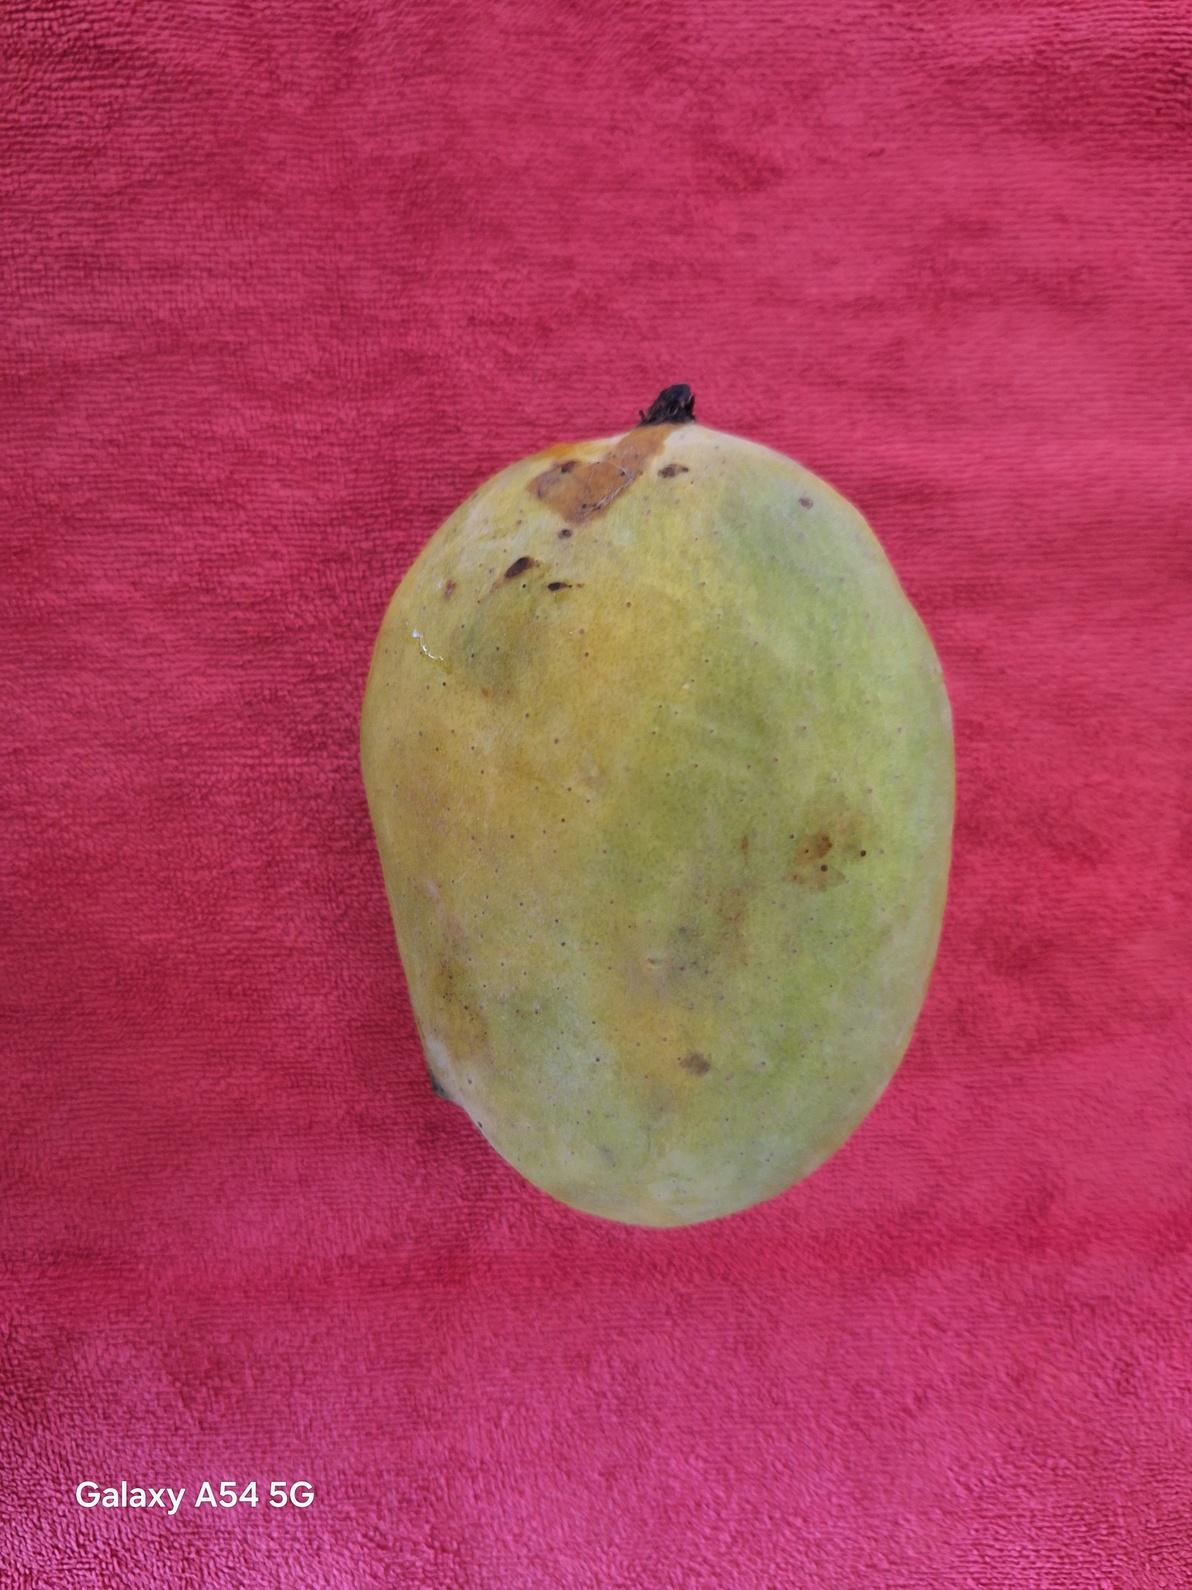mango: (357, 386, 957, 1229)
